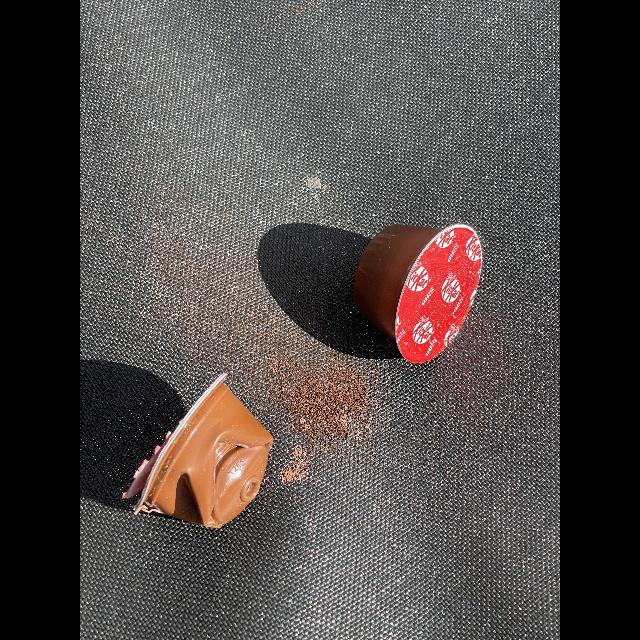damaged_capsule: (119, 363, 291, 543)
intact_capsule: (346, 214, 498, 370)
